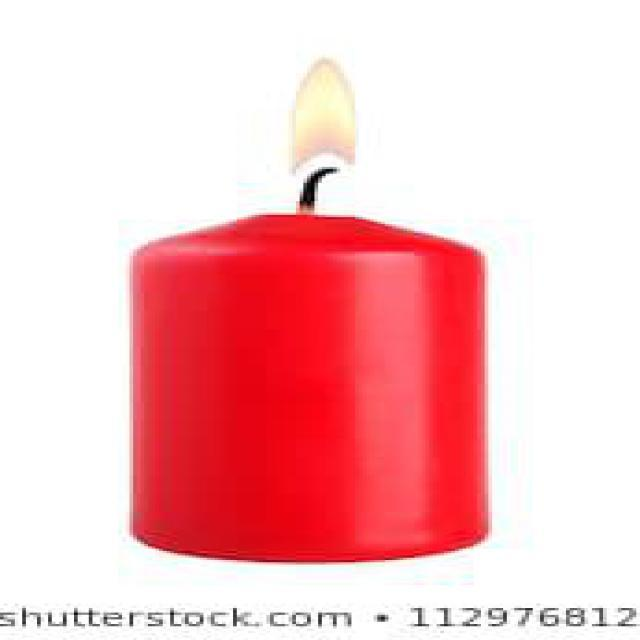Fire: (288, 59, 356, 183)
